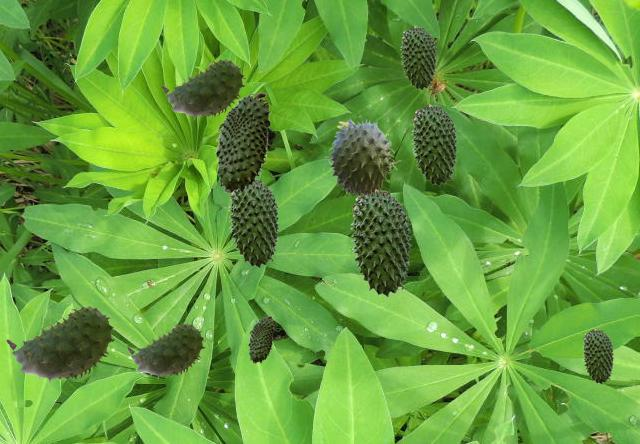guyabano: (6, 306, 114, 383), (350, 190, 411, 296), (324, 118, 400, 195), (215, 92, 270, 192), (161, 59, 244, 119), (228, 178, 279, 267), (127, 323, 204, 378), (411, 103, 457, 185), (400, 25, 436, 89), (582, 328, 613, 383), (248, 316, 273, 362)
